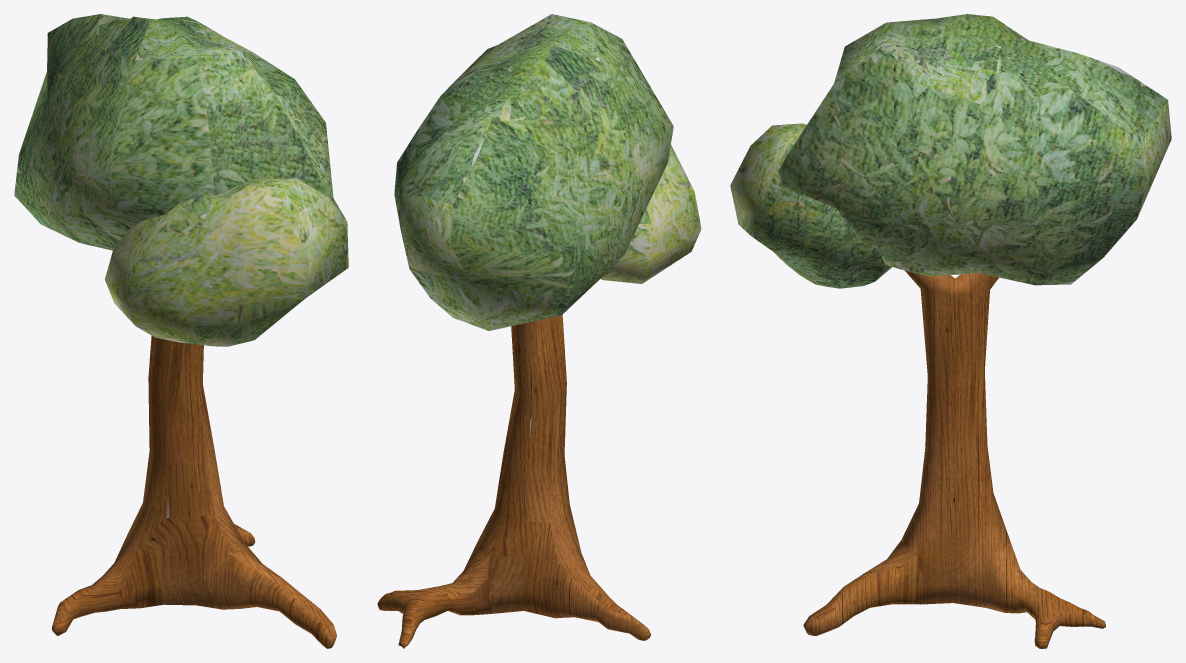
Rendered from Tree.fbx.
The picture shows the model from 3 angles, left to right: view 1: azimuth 30°, elevation 25°; view 2: azimuth 150°, elevation 25°; view 3: azimuth 270°, elevation 25°; orthographic projection. The views are drawn at different scales.
Visible parts, largest first — view 1: pSphere1; view 2: pSphere1; view 3: pSphere1.
Part boxes in pixels (left/top/right/bottom): pSphere1: left=14, top=14, right=348, bottom=648; pSphere1: left=377, top=14, right=701, bottom=648; pSphere1: left=730, top=14, right=1171, bottom=648.
Bounding box in the file's own units: 4.34 × 10.2 × 7.1.
